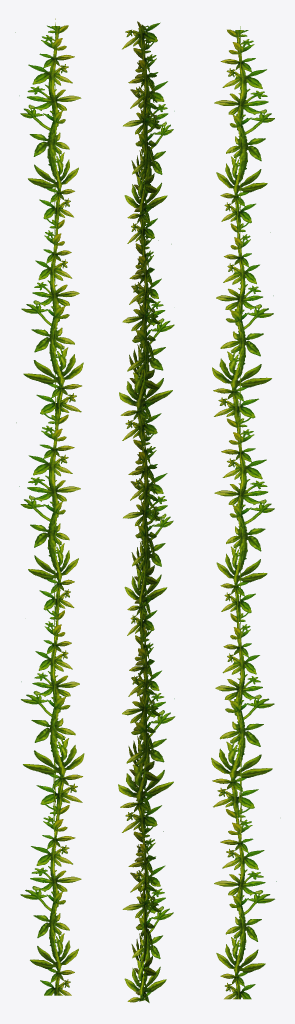
File: genericseaweed08.obj
3 renders of one model, left to right at view 1: azimuth 90°, elevation 25°; view 2: azimuth 210°, elevation 25°; view 3: azimuth 270°, elevation 25°, orthographic.
Parts seen in each view (by area): view 1: genericseaweed08; view 2: genericseaweed08; view 3: genericseaweed08.
Part boxes in pixels (x1,y1,x2,y2): genericseaweed08: (15, 18, 84, 995); genericseaweed08: (118, 21, 175, 1002); genericseaweed08: (211, 26, 276, 999).
Size of the model in its own units: 1.22 by 17.94 by 1.22.
1 material, 1 textured.
